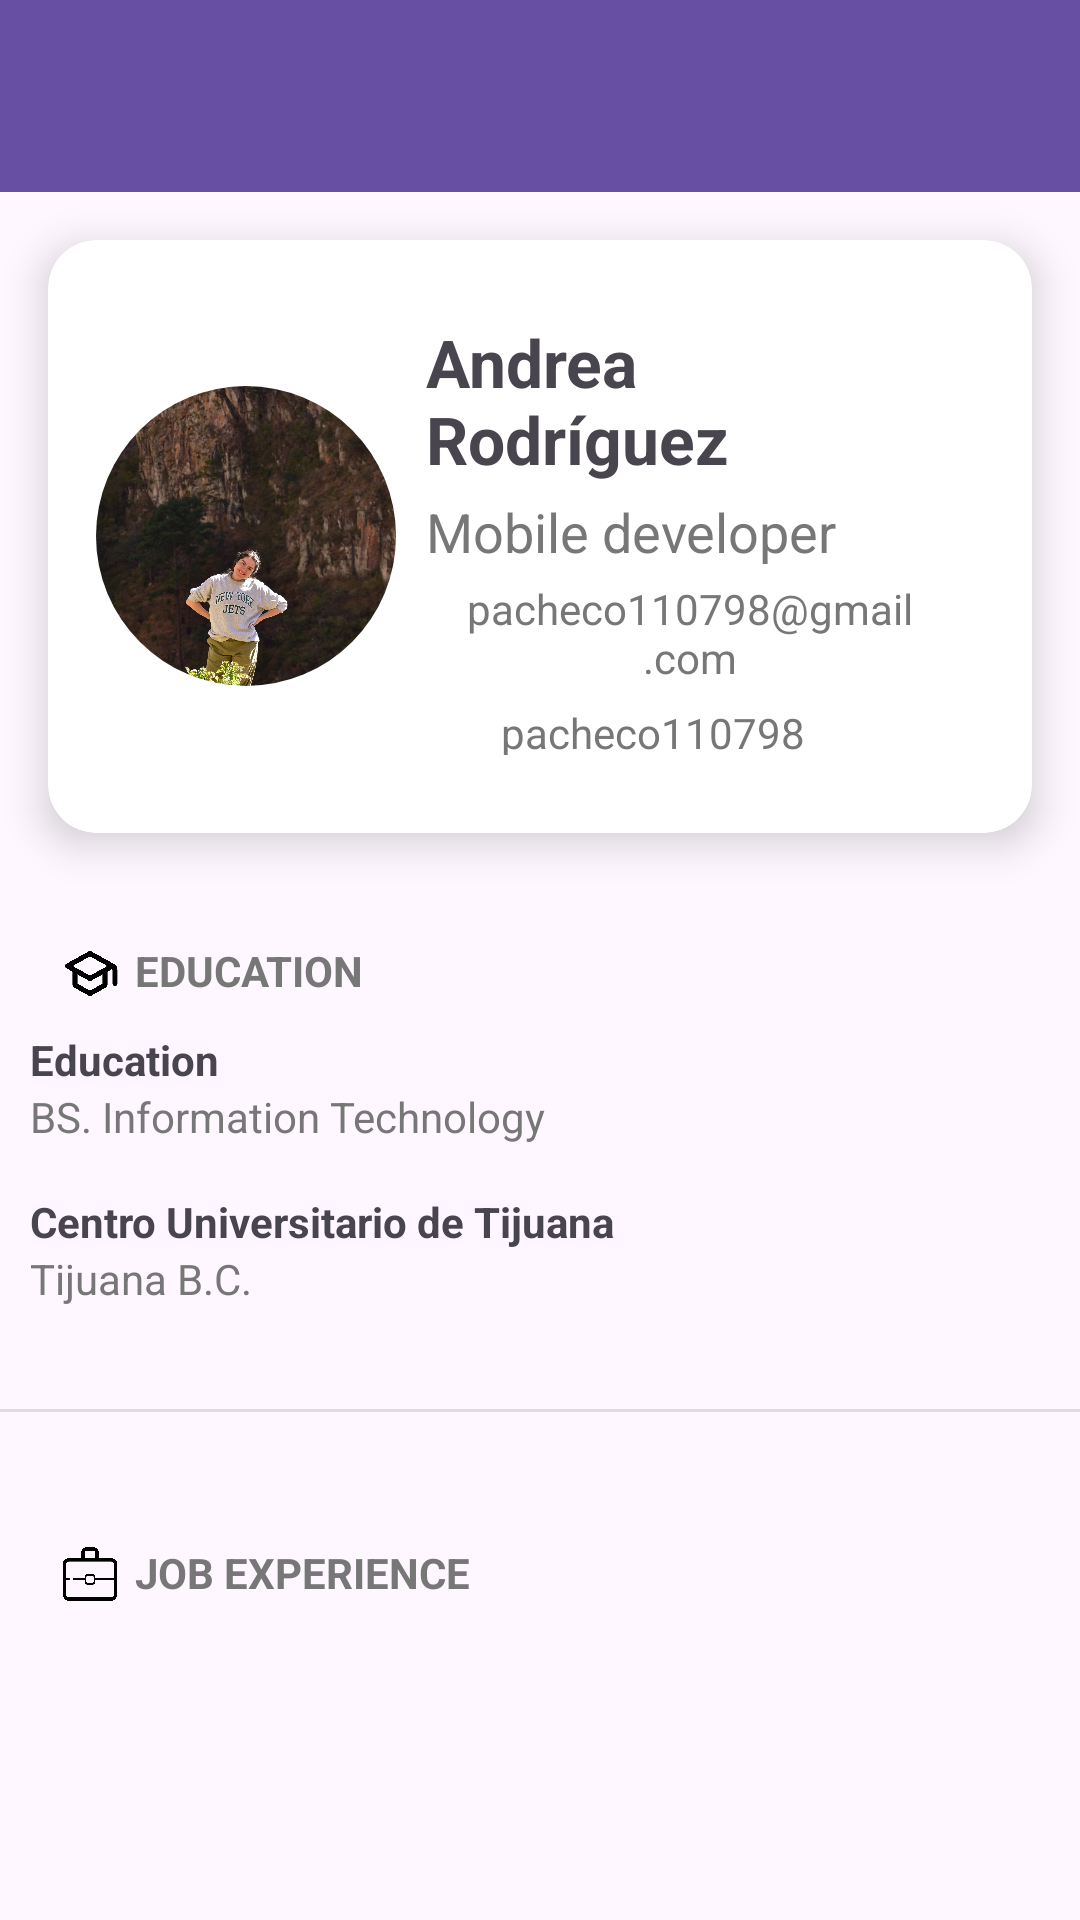

Icons on this 1080 x 1920 Android screen, each with the point to tap as (x,y):
portfolio: (90,1574)
school: (91,973)
